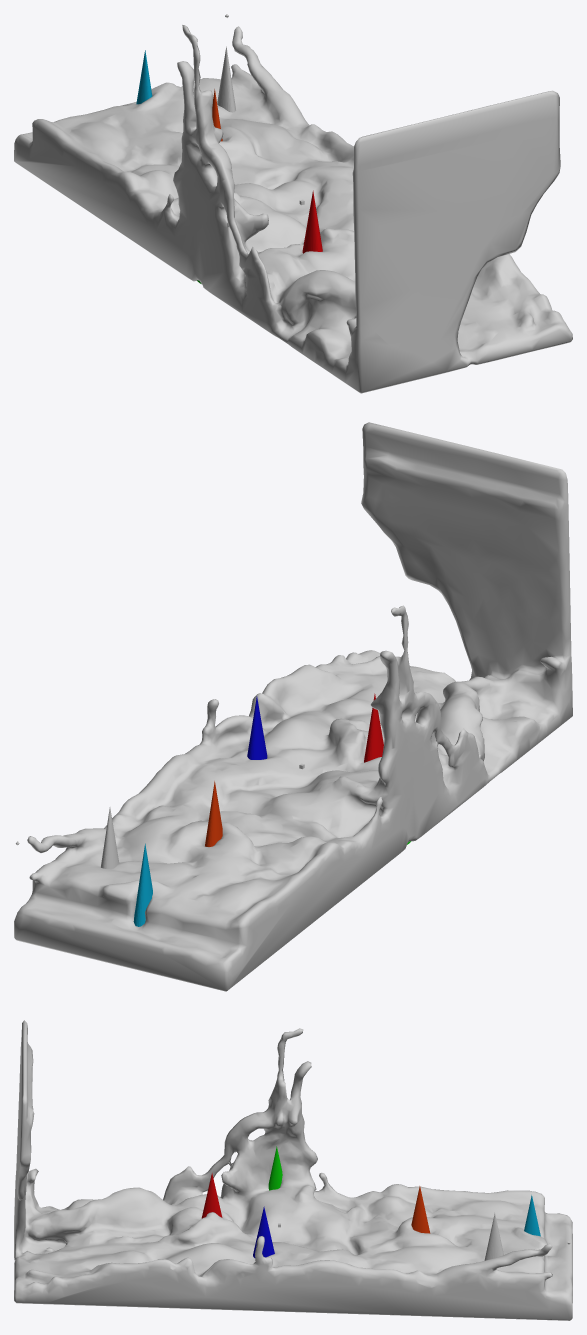
3 views of the same model, one above another, from view 1: azimuth 30°, elevation 25°; view 2: azimuth 150°, elevation 25°; view 3: azimuth 270°, elevation 25° (orthographic). The views are drawn at different scales.
Parts seen in each view (by area): view 1: Liquid_Domain, 円錐.001, 円錐; view 2: Liquid_Domain, 円錐.005, 円錐.002, 円錐.001; view 3: Liquid_Domain, 円錐.004, 円錐, 円錐.002, 円錐.001, 円錐.003.
Part boxes in pixels (<box>): Liquid_Domain: <box>14,14,572,393</box>; 円錐.001: <box>302,190,322,253</box>; 円錐: <box>217,46,235,112</box>; Liquid_Domain: <box>14,422,572,991</box>; 円錐.005: <box>133,843,152,926</box>; 円錐.002: <box>247,696,267,759</box>; 円錐.001: <box>364,693,383,762</box>; Liquid_Domain: <box>14,1020,572,1320</box>; 円錐.004: <box>411,1186,430,1233</box>; 円錐: <box>484,1213,503,1260</box>; 円錐.002: <box>253,1206,274,1257</box>; 円錐.001: <box>201,1173,222,1218</box>; 円錐.003: <box>268,1146,282,1190</box>.
Bounding box in the file's own units: 129 × 157 × 361.
